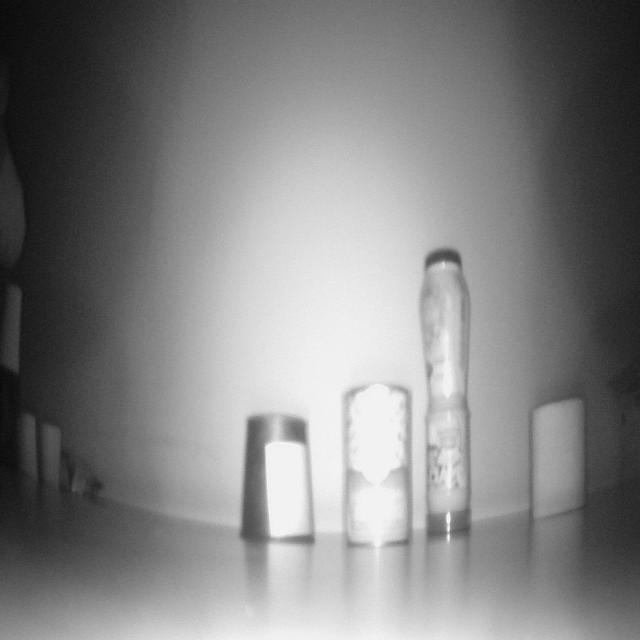targets: (342, 383, 411, 543), (238, 409, 312, 544), (420, 245, 472, 408), (528, 393, 586, 529), (426, 409, 470, 538), (1, 286, 22, 376), (14, 413, 37, 480), (41, 426, 64, 490)
